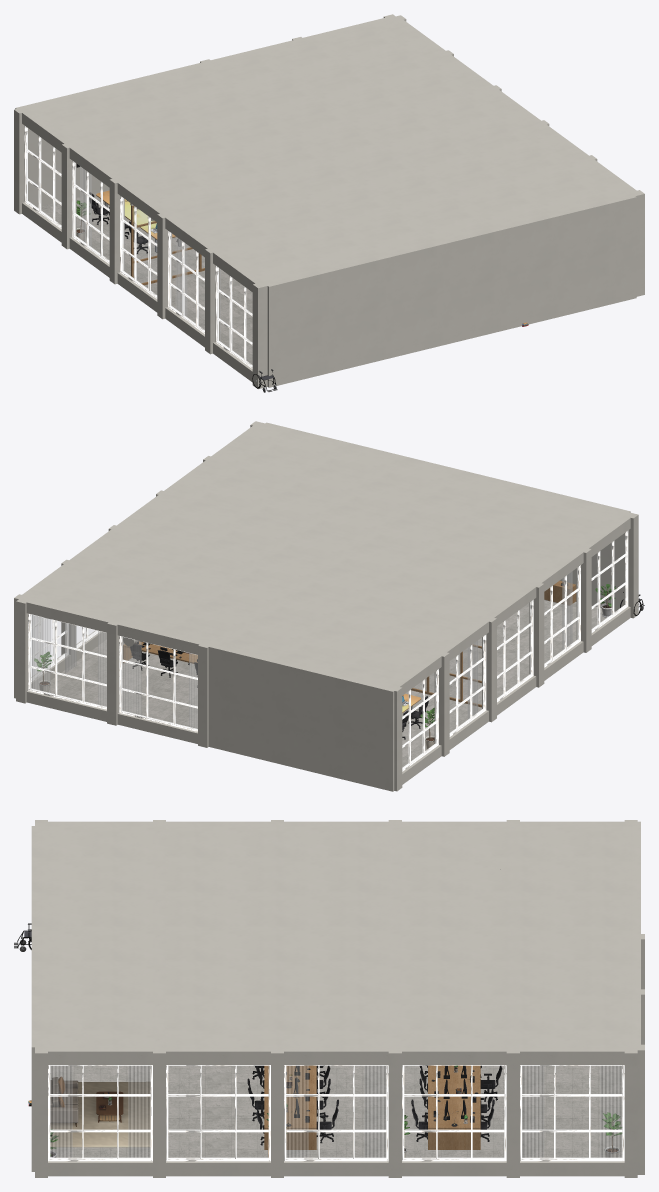
The model's file is bureau_nofurn-map_rendu.glb.
3 views of the same model, one above another, from view 1: azimuth 30°, elevation 25°; view 2: azimuth 150°, elevation 25°; view 3: azimuth 270°, elevation 25° (orthographic). The views are drawn at different scales.
Parts seen in each view (by area): view 1: Plaster, Floor, Frame, Objets, Curtain, Oak; view 2: Plaster, Floor, Frame, Curtain, Objets, Oak; view 3: Plaster, Floor, Curtain, Objets, Frame, Oak.
Part boxes in pixels (x1,y1,x2,y2): Plaster: [14, 14, 644, 389]; Floor: [37, 190, 252, 364]; Frame: [24, 126, 252, 368]; Objets: [76, 164, 528, 392]; Curtain: [80, 166, 220, 341]; Oak: [131, 205, 204, 285]; Plaster: [14, 421, 638, 791]; Floor: [38, 600, 615, 767]; Frame: [28, 530, 628, 771]; Curtain: [32, 571, 572, 728]; Objets: [34, 582, 644, 749]; Oak: [123, 580, 576, 707]; Plaster: [31, 820, 644, 1177]; Floor: [50, 1065, 622, 1157]; Curtain: [50, 1066, 621, 1157]; Objets: [14, 923, 622, 1157]; Frame: [48, 1065, 624, 1161]; Oak: [264, 1065, 480, 1149].
Size of what is drawn, in the model's own units: 16.88 by 4.2 by 19.26.
11 materials, 4 textured.
